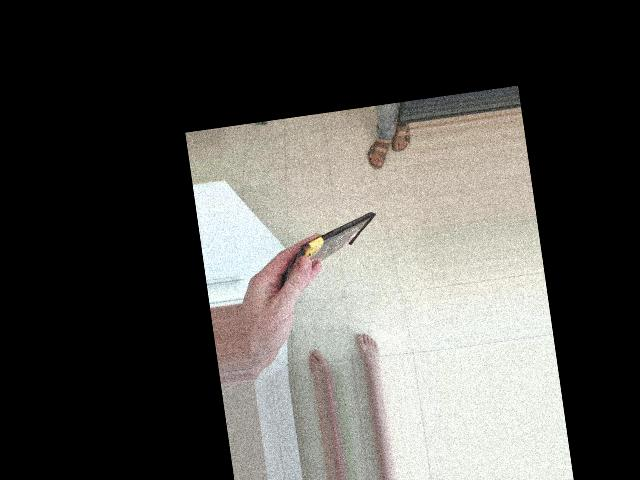chocolate: (320, 151, 400, 266)
